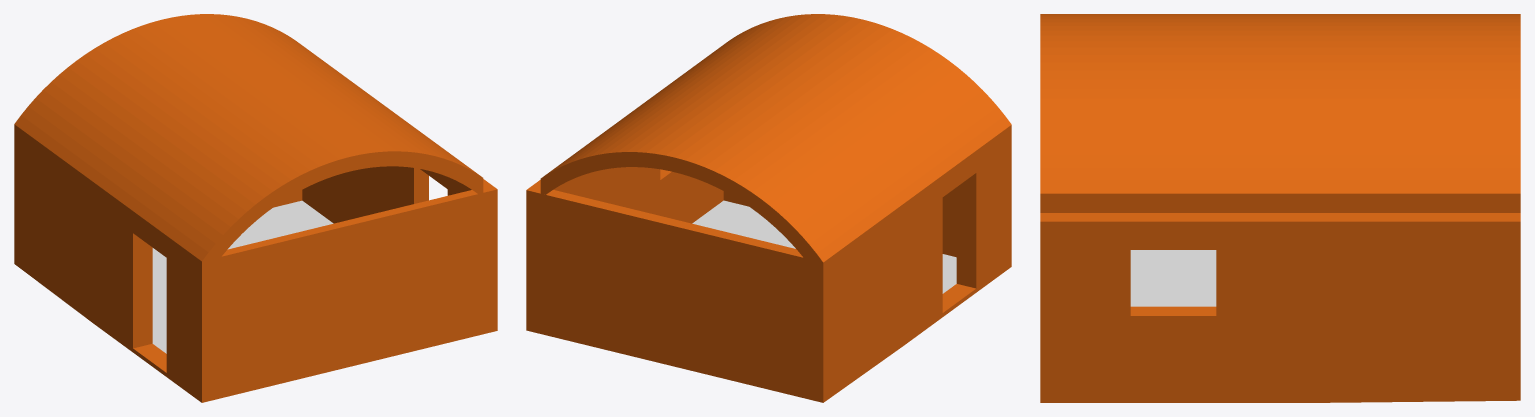
The model's file is house 1.fbx.
3 renders of one model, left to right at view 1: azimuth 30°, elevation 25°; view 2: azimuth 150°, elevation 25°; view 3: azimuth 270°, elevation 25°, orthographic. The views are drawn at different scales.
Visible parts, largest first — view 1: Cube; view 2: Cube; view 3: Cube.
Part boxes in pixels (x1,y1,x2,y2): Cube: (14,14,497,402); Cube: (526,14,1011,402); Cube: (1040,14,1520,402).
Bounding box in the file's own units: 5288 × 3587 × 5810.
